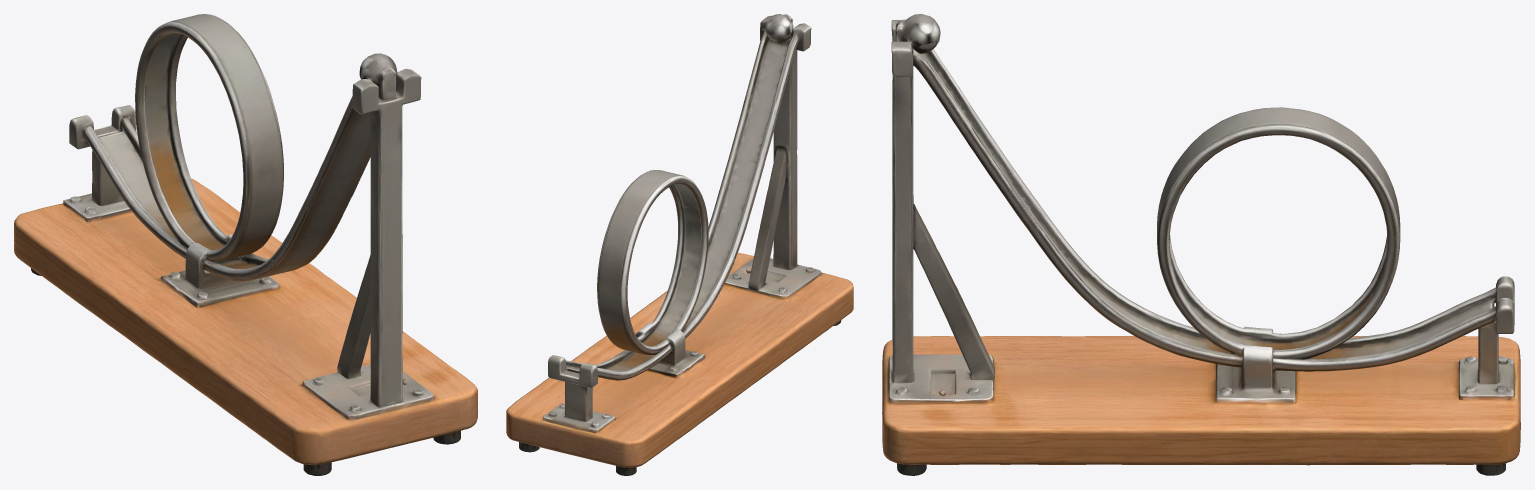
File: loop-track.glb
3 views of the same model, side by side, from view 1: azimuth 30°, elevation 25°; view 2: azimuth 150°, elevation 25°; view 3: azimuth 270°, elevation 25° (orthographic). The views are drawn at different scales.
Visible parts, largest first — view 1: loop-track; view 2: loop-track; view 3: loop-track.
Boxes of the visible parts, x1,y1,x2,y2 form: loop-track: (14,14,477,475); loop-track: (506,14,853,475); loop-track: (882,14,1520,475).
Bounding box in the file's own units: 0.212 × 0.4366 × 0.6.
Materials: 1 (1 with a texture image).
